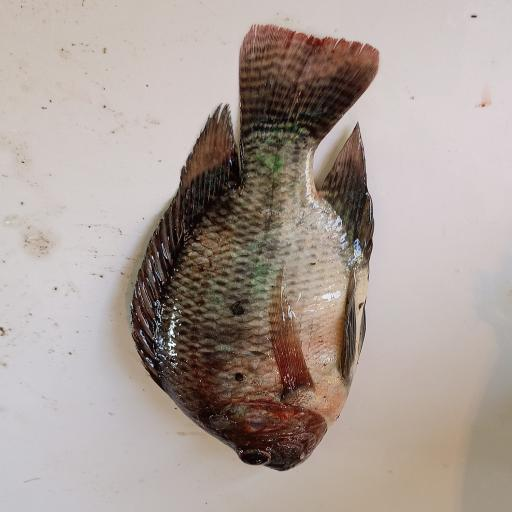Tilapia: (129, 25, 380, 472)
